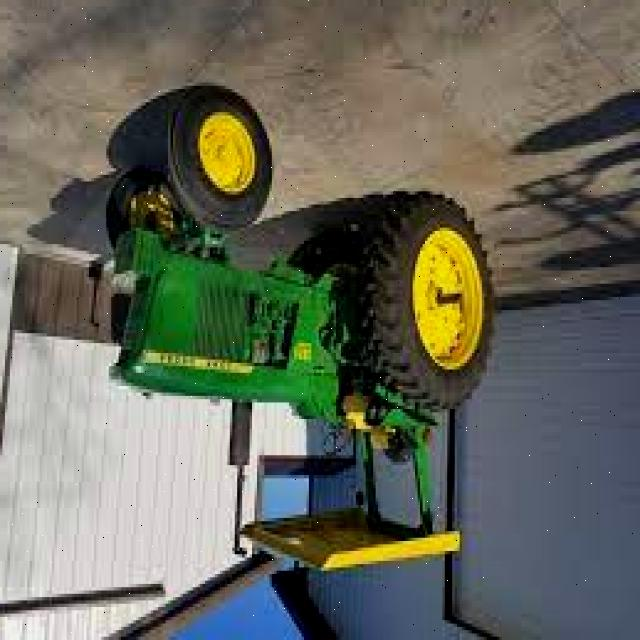Tratores - v5 YOLO V8L 2024-11-13: (80, 69, 507, 582)
